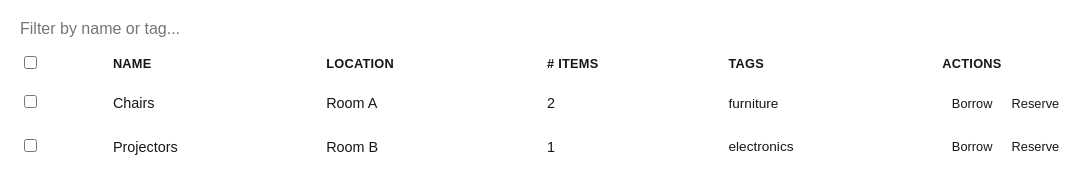
filters by name
In the field named "Filter resources": (172, 29) [12,12,332,46], type "chair"
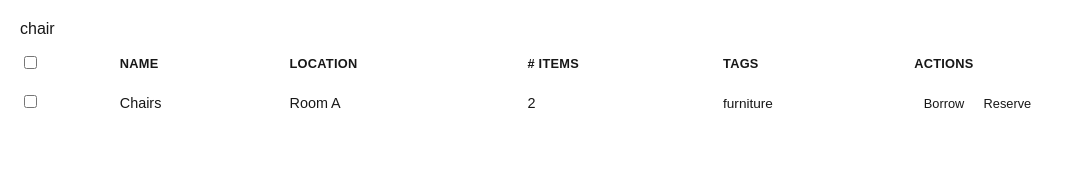
Expected: the link "Chairs" is shown, [120,95,161,111]
Expected: the link "Projectors" is gone
